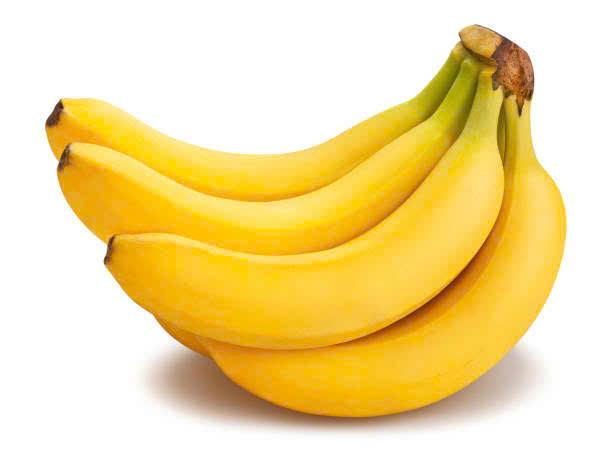banana: (56, 42, 587, 422)
